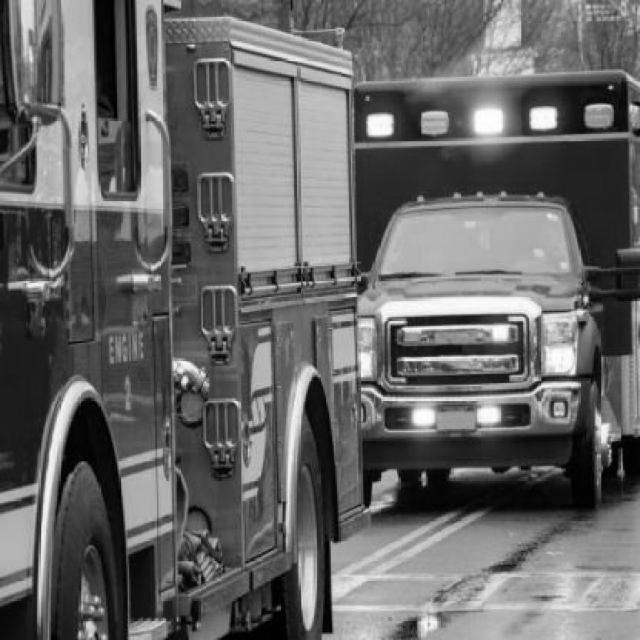Ambulance: (354, 70, 640, 510)
